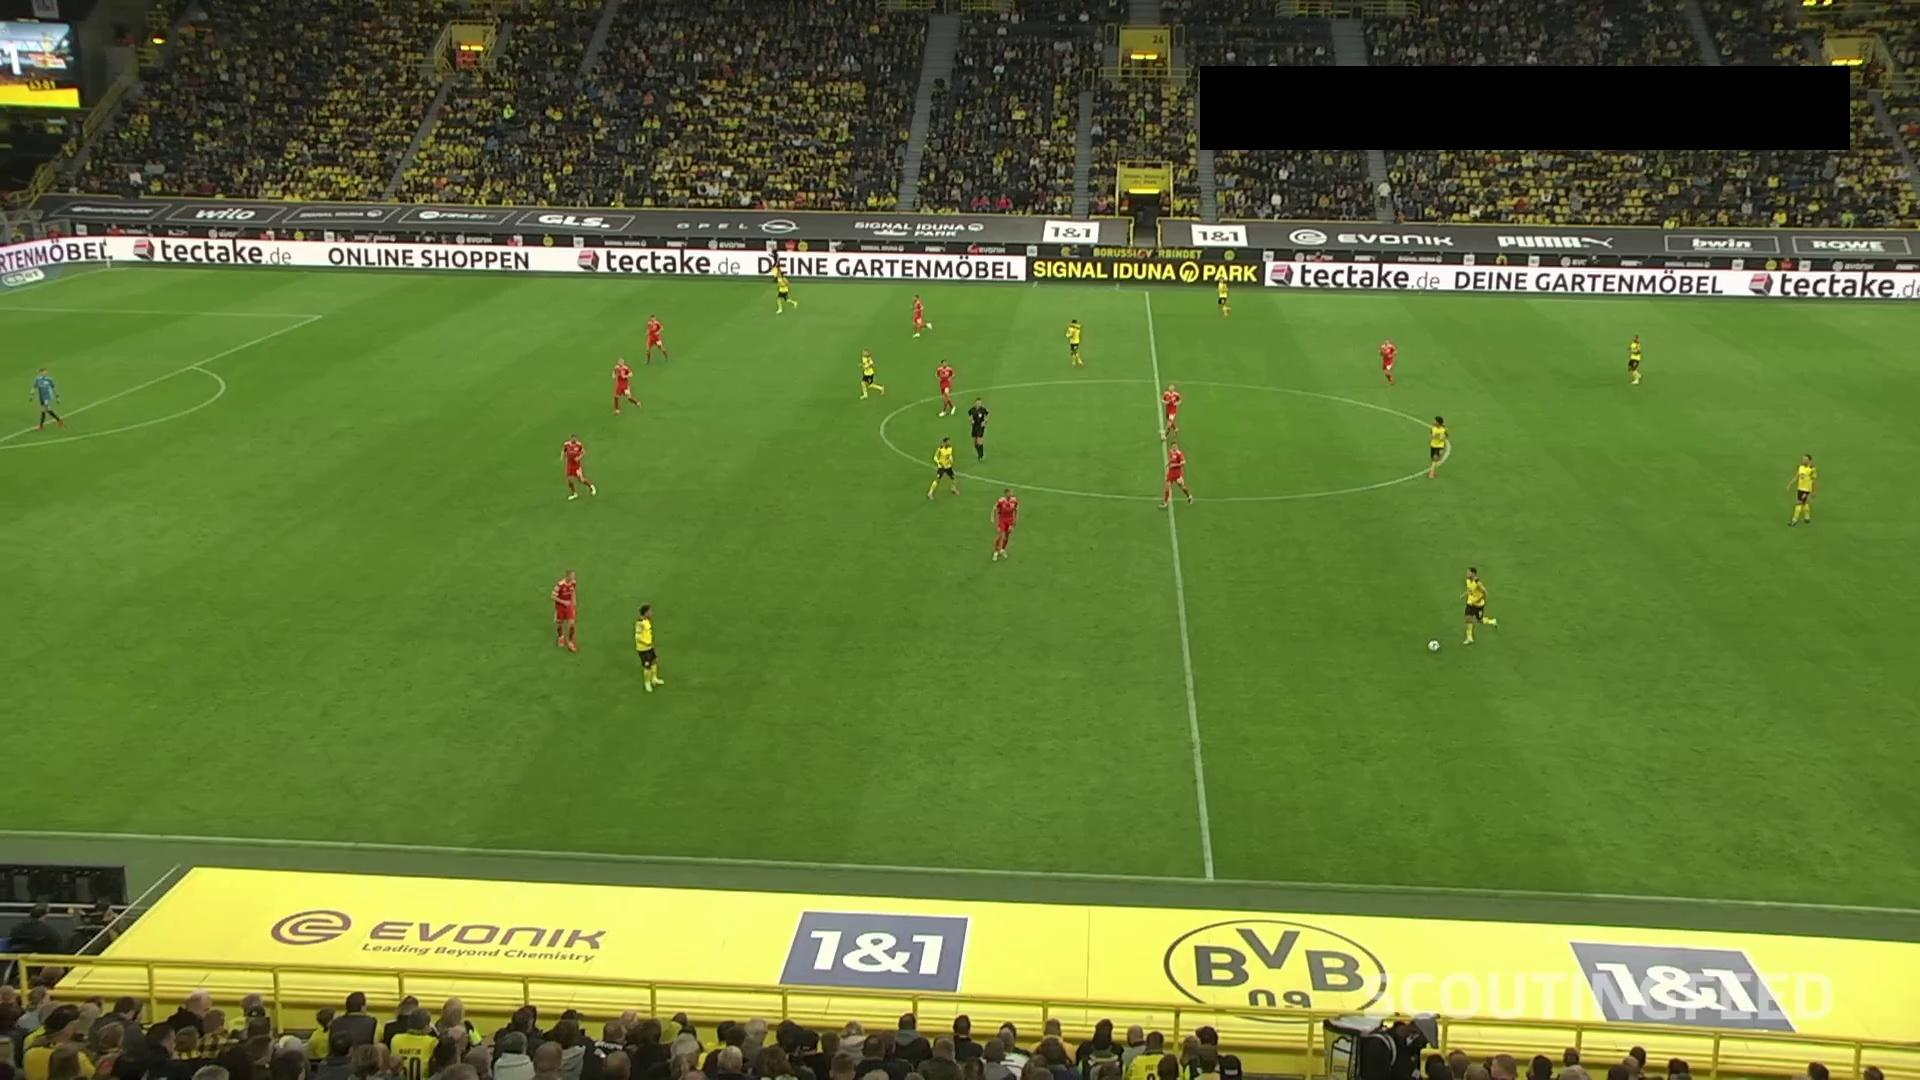Location-of-ball: (1408, 633, 1447, 665)
